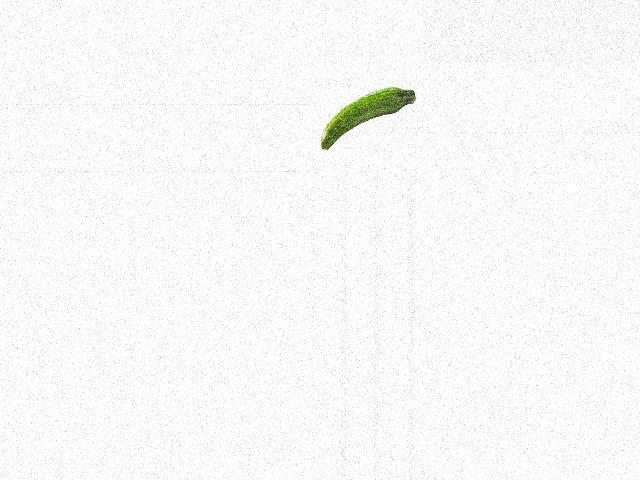cucumber: (321, 87, 416, 151)
